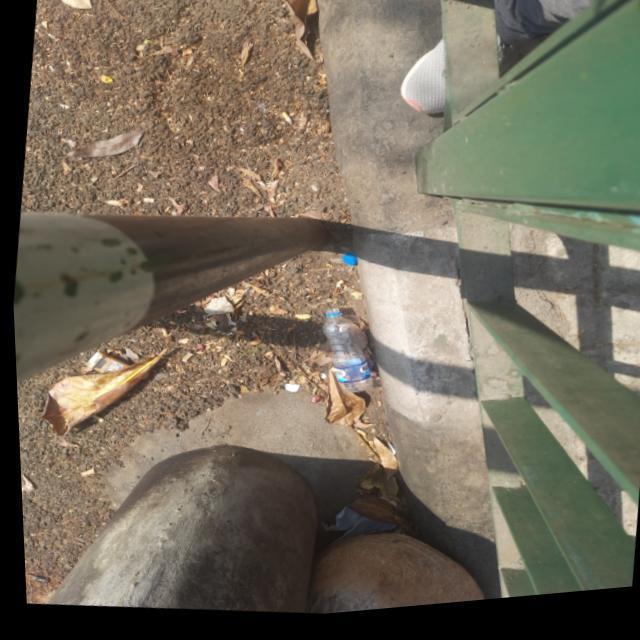Background: (11, 0, 640, 619)
Cig_bud: (280, 116, 291, 130), (157, 330, 164, 337), (267, 425, 268, 426)
Cig_pack: (83, 352, 127, 374)
Plastic: (339, 259, 354, 272)
Plastic_bottle: (318, 313, 368, 399)
